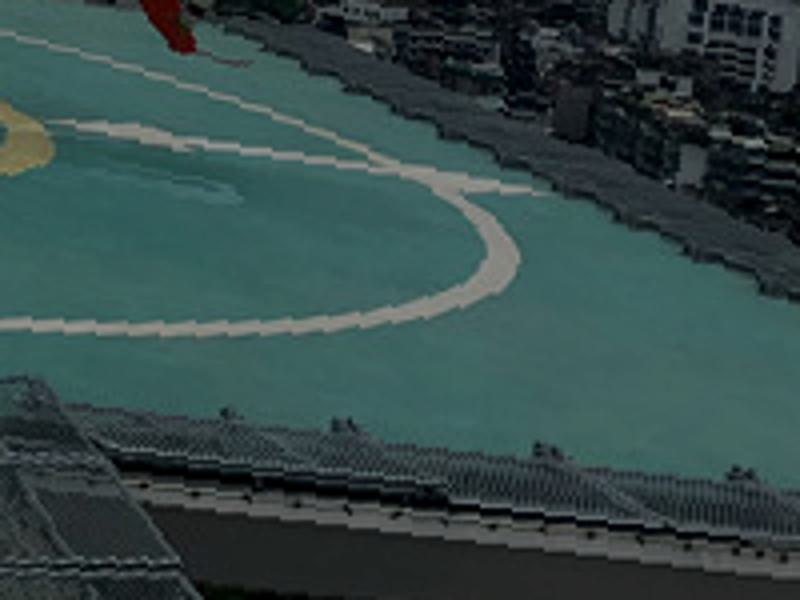Apron: (1, 98, 55, 180)
